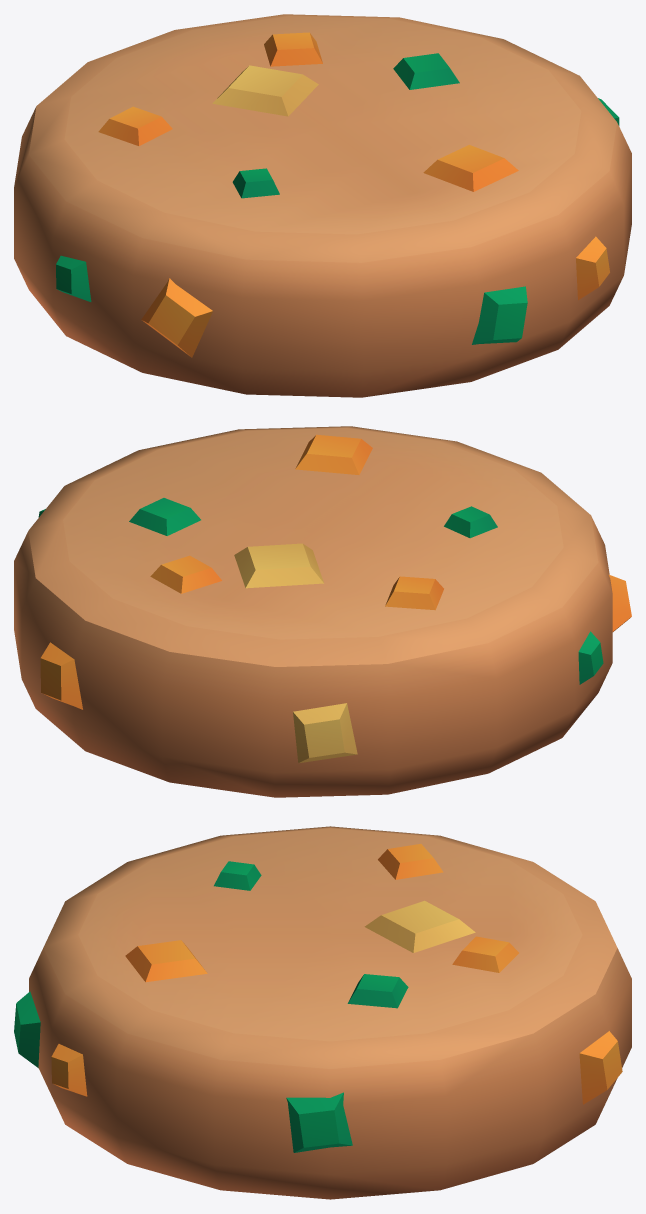
File: Vegie burger patty.glb
3 views of the same model, one above another, from view 1: azimuth 30°, elevation 25°; view 2: azimuth 150°, elevation 25°; view 3: azimuth 270°, elevation 25° (orthographic). The views are drawn at different scales.
Parts seen in each view (by area): view 1: food_ingredient_vegetableburger_uncooked; view 2: food_ingredient_vegetableburger_uncooked; view 3: food_ingredient_vegetableburger_uncooked.
Boxes of the visible parts, <box> form: food_ingredient_vegetableburger_uncooked: <box>14,14,631,397</box>; food_ingredient_vegetableburger_uncooked: <box>14,426,631,797</box>; food_ingredient_vegetableburger_uncooked: <box>14,826,631,1199</box>.
Bounding box in the file's own units: 0.728 × 0.216 × 0.7173.
1 material, 1 textured.
